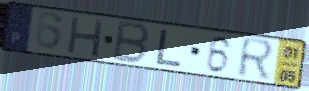6: (34, 10, 67, 55), (205, 35, 231, 75)
B: (110, 19, 153, 66)
H: (65, 14, 106, 59)
L: (154, 27, 185, 68)
R: (236, 35, 278, 83)
